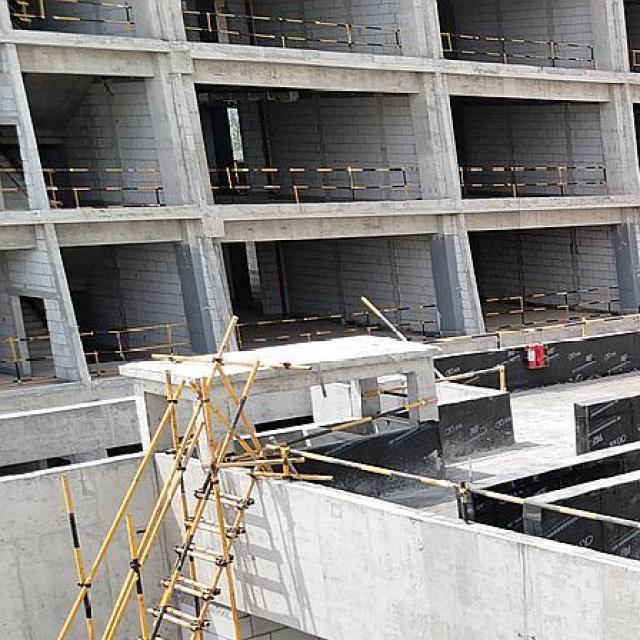edge_guardrail: (264, 443, 640, 526), (226, 397, 439, 462), (183, 10, 403, 53), (235, 303, 436, 350), (208, 166, 408, 205), (423, 313, 640, 348), (480, 286, 620, 331), (440, 32, 594, 68), (80, 324, 183, 376), (41, 168, 166, 209), (361, 363, 506, 397), (11, 0, 135, 37), (460, 166, 607, 196), (0, 336, 53, 384), (360, 294, 410, 343), (0, 167, 27, 193), (630, 50, 640, 66)
